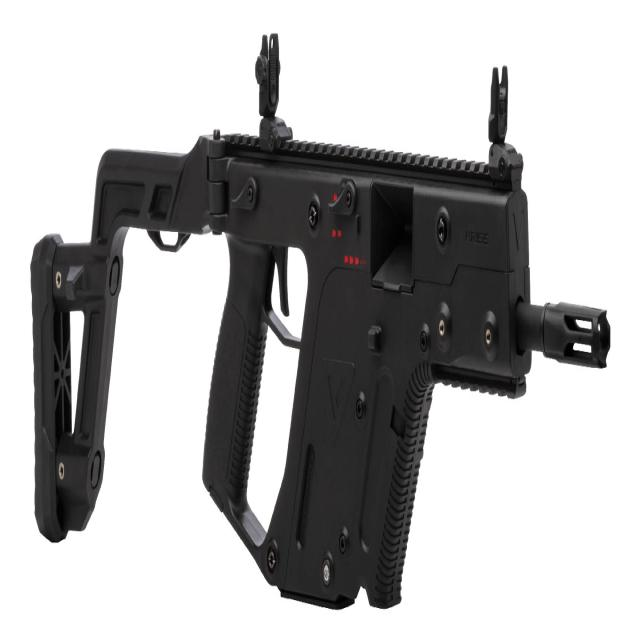SMG: (29, 36, 612, 612)
